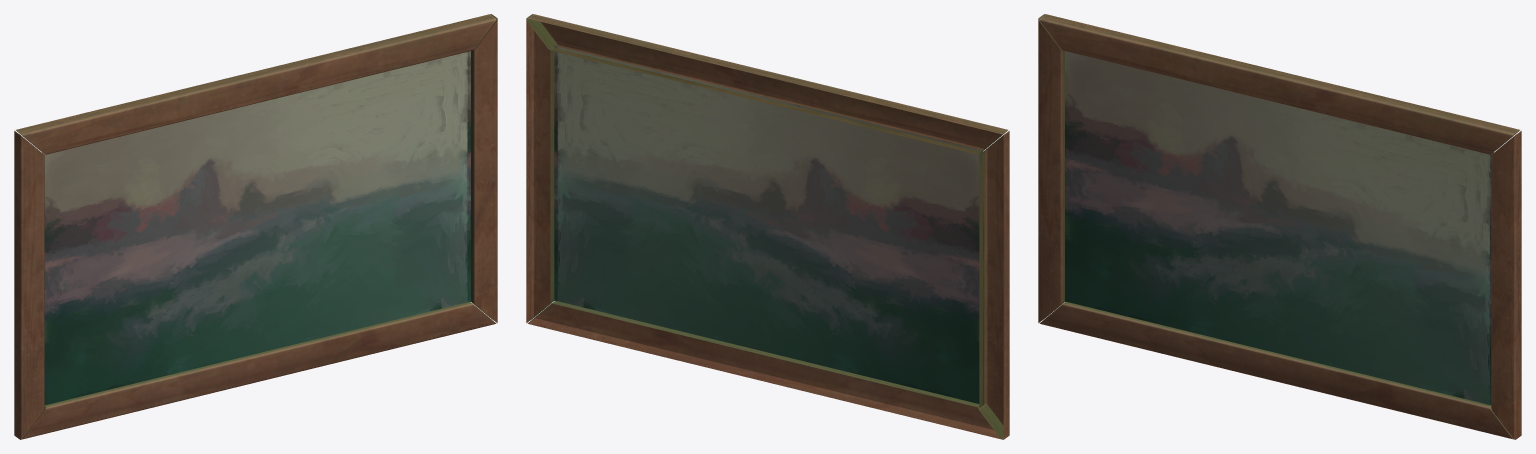
The model's file is SM_Frames_01.fbx.
3 renders of one model, left to right at view 1: azimuth 30°, elevation 25°; view 2: azimuth 150°, elevation 25°; view 3: azimuth 330°, elevation 25°, orthographic.
Visible parts, largest first — view 1: SM_Frames_01_LOD0; view 2: SM_Frames_01_LOD0; view 3: SM_Frames_01_LOD0.
Part boxes in pixels (x1,y1,x2,y2): SM_Frames_01_LOD0: (14, 14, 497, 439); SM_Frames_01_LOD0: (526, 14, 1009, 439); SM_Frames_01_LOD0: (1038, 14, 1521, 439).
Bounding box in the file's own units: 71.34 × 2 × 43.58.
1 material, 1 textured.
